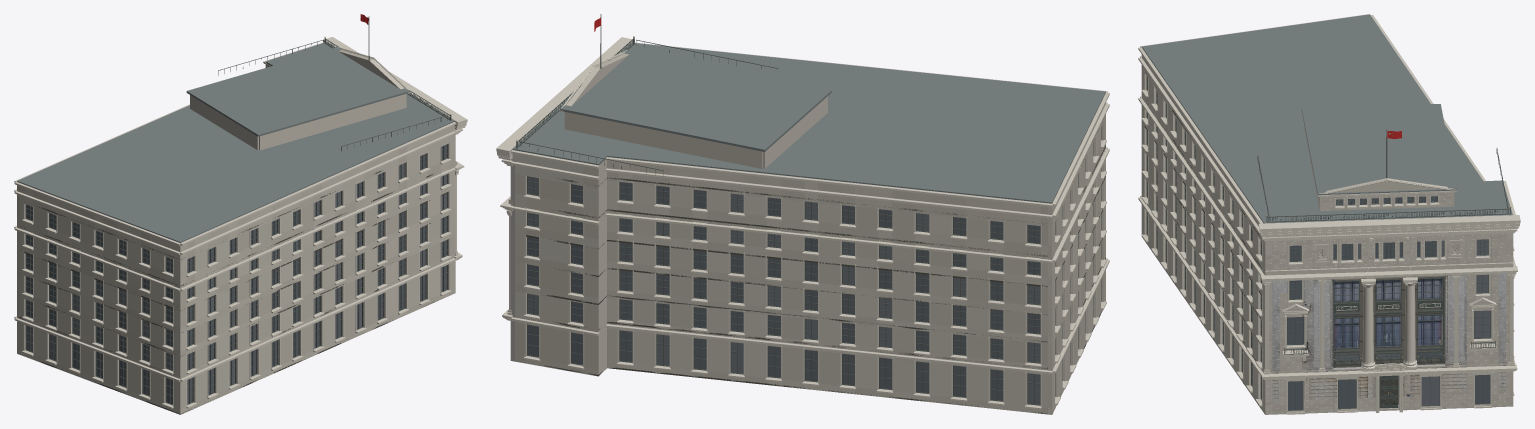
Rendered from bund18-east-door-cartouche-lod.glb.
3 views of the same model, side by side, from view 1: azimuth 30°, elevation 25°; view 2: azimuth 150°, elevation 25°; view 3: azimuth 270°, elevation 25° (orthographic). The views are drawn at different scales.
Parts seen in each view (by area): view 1: object 1; view 2: object 1; view 3: object 1.
Part boxes in pixels (bbox=[...]): object 1: bbox=[14, 14, 467, 414]; object 1: bbox=[496, 14, 1109, 414]; object 1: bbox=[1138, 14, 1520, 414].
Bounding box in the file's own units: 61.75 × 35.72 × 46.03.
Materials: 22 (7 with a texture image).
